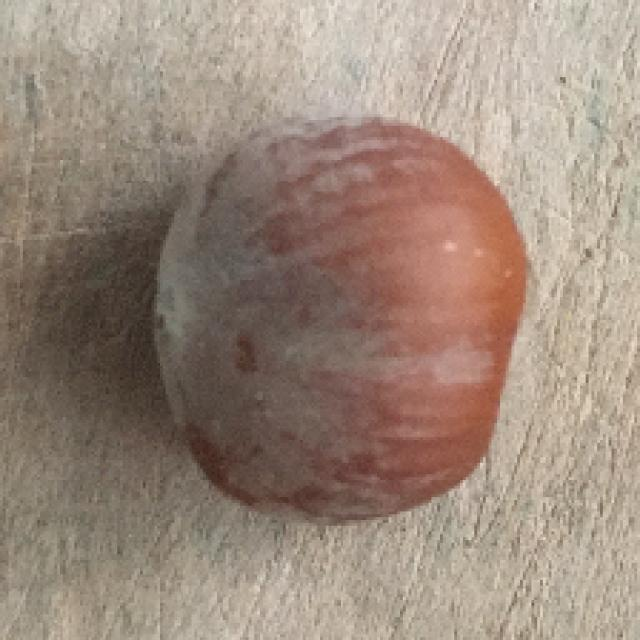qualityHazelnut: (145, 112, 541, 529)
